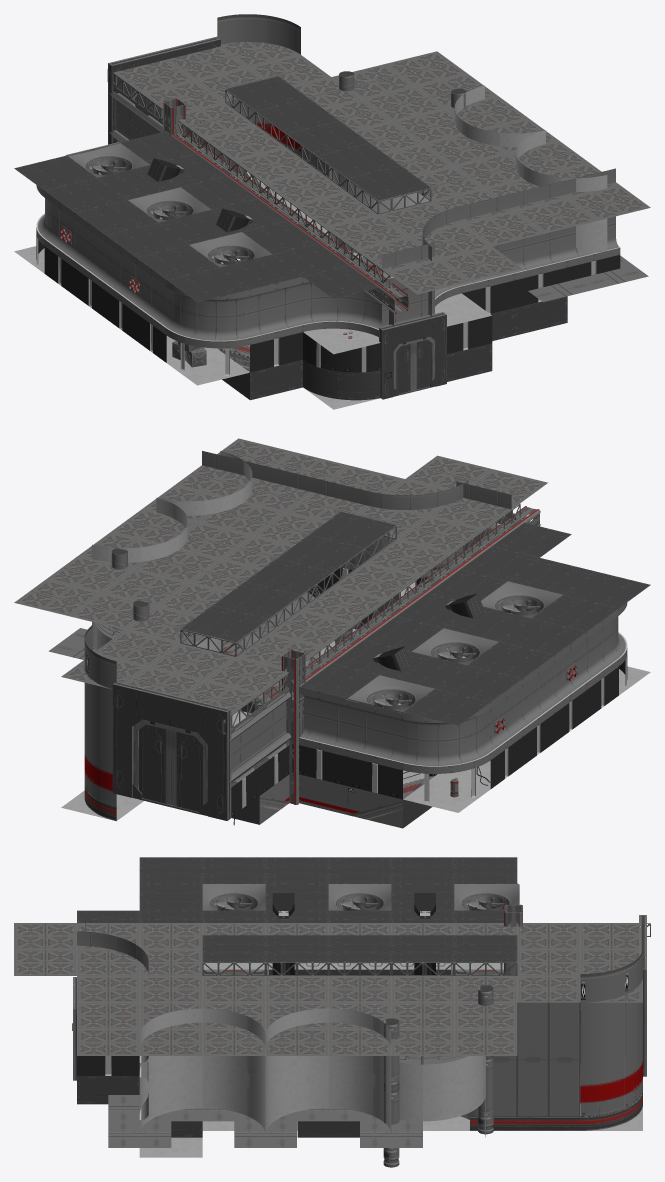
The model's file is demo-layout-fans2.glb.
The picture shows the model from 3 angles, top to bottom: view 1: azimuth 30°, elevation 25°; view 2: azimuth 150°, elevation 25°; view 3: azimuth 270°, elevation 25°; orthographic projection. The views are drawn at different scales.
Parts seen in each view (by area): view 1: Door_Frame_Square.001, ShortWall_Band2_Corner_Outer, TopPlastic_Corner_Round_Outer, TopPlastic_Corner_Round_Inner.002, ShortWall_DarkMetal2_Corner_Inner, Door_Frame_Square, TopAstra_Curve_Round_Outer, TopPlastic_Straight.012, TopPlastic_Straight.018, Platform_DarkPlates.004, Platform_DarkPlates.005, Platform_DarkPlates.007 (+105 smaller); view 2: Door_Frame_Square, ShortWall_Band2_Corner_Outer, TopPlastic_Corner_Round_Inner, Door_DarkMetal.001, Door_DarkMetal, TopPlastic_Straight.008, Platform_DarkPlates.007, Platform_X.003, Platform_DarkPlates.005, Platform_X.009, Platform_DarkPlates.023, Platform_X.031 (+106 smaller); view 3: ShortWall_Band2_Corner_Outer, ShortWall_MetalPlates_Straight.001, ShortWall_MetalPlates_Straight, ShortWall_WhitePlate2_Corner_Outer.025, ShortWall_WhitePlate2_Corner_Outer.018, ShortWall_WhitePlate2_Corner_Outer.019, Platform_X.030, ShortWall_WhitePlate2_Corner_Outer.024, Platform_X.024, ShortWall_WhitePlate2_Corner_Outer.008, Platform_DarkPlates.002, Platform_DarkPlates.003 (+95 smaller).
Boxes of the visible parts, x1,y1,x2,y2 form: Door_Frame_Square.001: [379, 312, 446, 399]; ShortWall_Band2_Corner_Outer: [217, 14, 300, 156]; TopPlastic_Corner_Round_Outer: [298, 297, 393, 336]; TopPlastic_Corner_Round_Inner.002: [166, 306, 249, 348]; ShortWall_DarkMetal2_Corner_Inner: [303, 360, 380, 400]; Door_Frame_Square: [108, 36, 220, 146]; TopAstra_Curve_Round_Outer: [303, 332, 380, 372]; TopPlastic_Straight.012: [245, 301, 302, 344]; TopPlastic_Straight.018: [510, 237, 567, 280]; Platform_DarkPlates.004: [75, 200, 157, 235]; Platform_DarkPlates.005: [106, 222, 188, 257]; Platform_DarkPlates.007: [167, 267, 249, 302]; Door_Frame_Square: [112, 681, 231, 820]; ShortWall_Band2_Corner_Outer: [84, 624, 116, 806]; TopPlastic_Corner_Round_Inner: [403, 729, 490, 773]; Door_DarkMetal.001: [139, 724, 171, 804]; Door_DarkMetal: [171, 730, 202, 811]; TopPlastic_Straight.008: [347, 724, 407, 770]; Platform_DarkPlates.007: [563, 571, 650, 608]; Platform_X.003: [149, 643, 235, 680]; Platform_DarkPlates.005: [499, 618, 586, 655]; Platform_X.009: [397, 516, 483, 552]; Platform_DarkPlates.023: [245, 558, 331, 595]; Platform_X.031: [14, 579, 100, 616]; ShortWall_Band2_Corner_Outer: [580, 950, 642, 1116]; ShortWall_MetalPlates_Straight.001: [517, 1002, 548, 1116]; ShortWall_MetalPlates_Straight: [548, 1002, 579, 1116]; ShortWall_WhitePlate2_Corner_Outer.025: [202, 1079, 265, 1133]; ShortWall_WhitePlate2_Corner_Outer.018: [265, 1079, 328, 1133]; ShortWall_WhitePlate2_Corner_Outer.019: [328, 1079, 391, 1132]; Platform_X.030: [77, 1002, 139, 1029]; ShortWall_WhitePlate2_Corner_Outer.024: [139, 1079, 202, 1134]; Platform_X.024: [454, 1002, 517, 1029]; ShortWall_WhitePlate2_Corner_Outer.008: [423, 1056, 485, 1092]; Platform_DarkPlates.002: [454, 857, 517, 883]; Platform_DarkPlates.003: [391, 857, 454, 883].
Size of the model in its own units: 33 by 11.82 by 40.5.
Materials: 22 (18 with a texture image).
